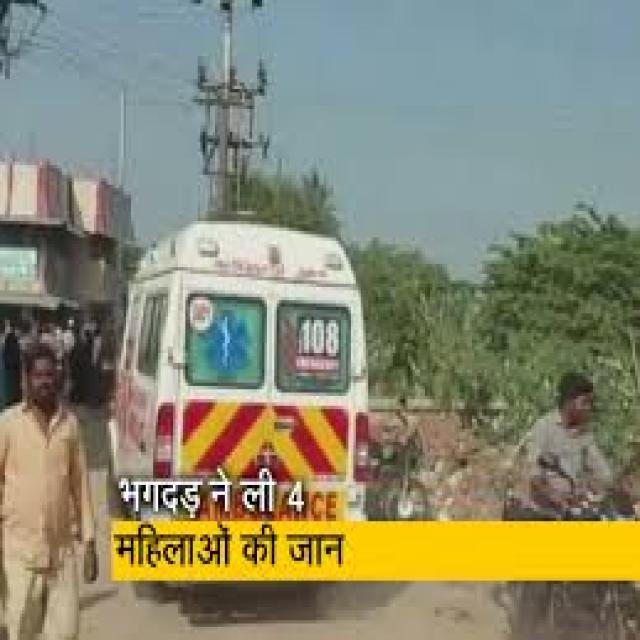ambulance: (109, 222, 368, 530)
